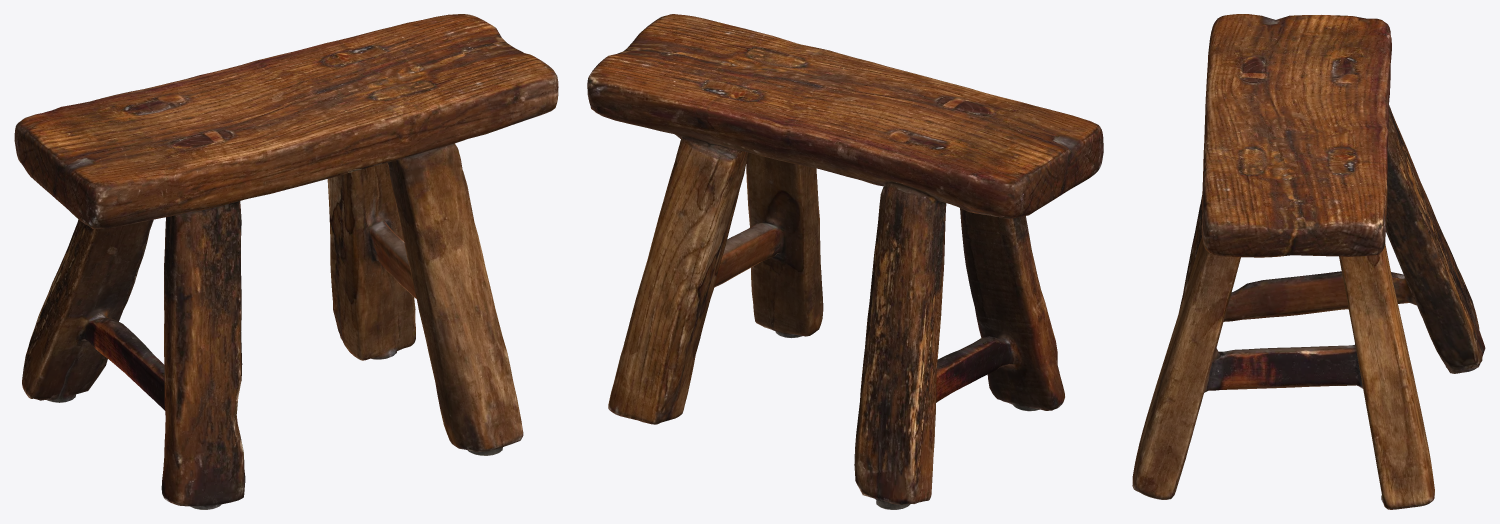
Rendered from wooden_stool_02.glb.
The picture shows the model from 3 angles, left to right: view 1: azimuth 30°, elevation 25°; view 2: azimuth 150°, elevation 25°; view 3: azimuth 270°, elevation 25°; orthographic projection. The views are drawn at different scales.
Parts seen in each view (by area): view 1: wooden_stool_02; view 2: wooden_stool_02; view 3: wooden_stool_02.
Part boxes in pixels (x1,y1,x2,y2): wooden_stool_02: (14,14,558,509); wooden_stool_02: (587,14,1103,509); wooden_stool_02: (1132,14,1485,509).
Bounding box in the file's own units: 0.2652 × 0.1819 × 0.1831.
1 material, 1 textured.
